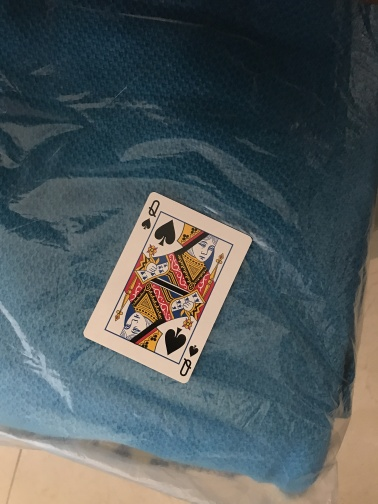queen: (82, 191, 254, 385)
